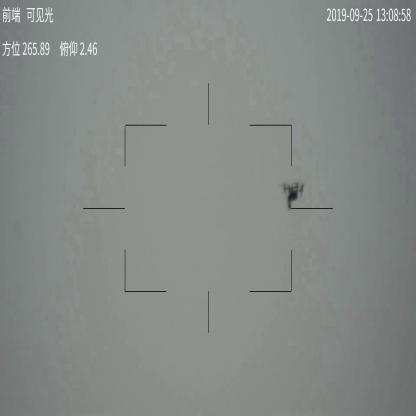uav: (281, 182, 305, 210)
